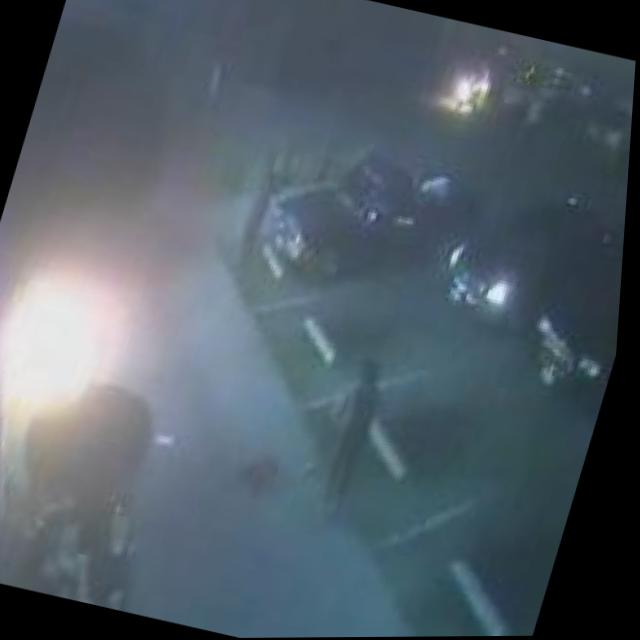fire: (0, 241, 161, 450), (435, 61, 496, 119)
